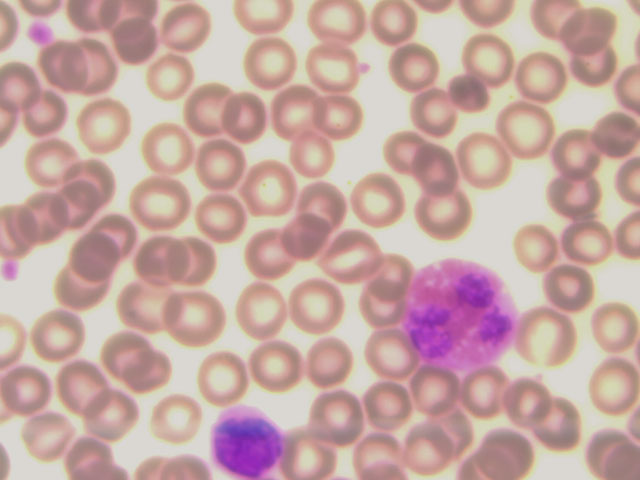Platelets: (26, 19, 54, 50), (1, 256, 25, 281)
RBC: (451, 133, 510, 188), (498, 101, 557, 156), (510, 51, 569, 106), (458, 31, 517, 86), (442, 70, 501, 125), (562, 6, 621, 61), (564, 32, 623, 87), (581, 110, 640, 165), (549, 120, 608, 175), (543, 163, 602, 218), (557, 214, 616, 269), (510, 221, 569, 276), (532, 260, 591, 315), (521, 311, 580, 366), (581, 297, 640, 352), (581, 356, 640, 411), (536, 398, 595, 453), (501, 378, 560, 433), (458, 361, 517, 416), (416, 359, 475, 414), (361, 375, 420, 430), (308, 388, 367, 443), (300, 332, 359, 387), (245, 339, 304, 394), (232, 279, 291, 334), (286, 281, 345, 336), (325, 228, 384, 283), (359, 246, 418, 301), (355, 285, 414, 340), (358, 326, 417, 381), (360, 425, 419, 480), (400, 425, 459, 480), (474, 425, 533, 480), (148, 394, 207, 449), (193, 348, 252, 403), (279, 425, 338, 480), (239, 161, 297, 216), (191, 135, 249, 190), (136, 120, 194, 175), (131, 172, 189, 227), (88, 209, 146, 264), (64, 232, 122, 287), (49, 263, 107, 318), (30, 309, 88, 364), (52, 357, 110, 412), (1, 363, 59, 418), (20, 407, 78, 462), (68, 425, 126, 480), (85, 387, 143, 442), (133, 342, 191, 397), (104, 327, 162, 382), (115, 278, 173, 333), (169, 293, 227, 348), (174, 231, 232, 286), (139, 231, 197, 286), (195, 192, 253, 247), (241, 229, 299, 284), (274, 212, 332, 267), (295, 179, 353, 234), (349, 174, 407, 229), (280, 134, 338, 189), (319, 89, 377, 144), (267, 85, 325, 140), (217, 90, 275, 145), (169, 81, 227, 136), (143, 53, 201, 108), (104, 17, 162, 72), (68, 44, 126, 99), (31, 39, 89, 94), (16, 91, 74, 146), (19, 132, 77, 187), (57, 151, 115, 206), (41, 188, 99, 243), (16, 191, 74, 246), (78, 100, 136, 155), (245, 36, 303, 91), (303, 41, 361, 96), (1, 67, 58, 122), (155, 1, 213, 55), (417, 190, 473, 242), (383, 45, 442, 93), (403, 91, 462, 139), (376, 126, 435, 174), (408, 145, 467, 193), (308, 1, 367, 48), (365, 1, 424, 48)
WBC: (404, 259, 518, 369), (210, 398, 286, 478)
